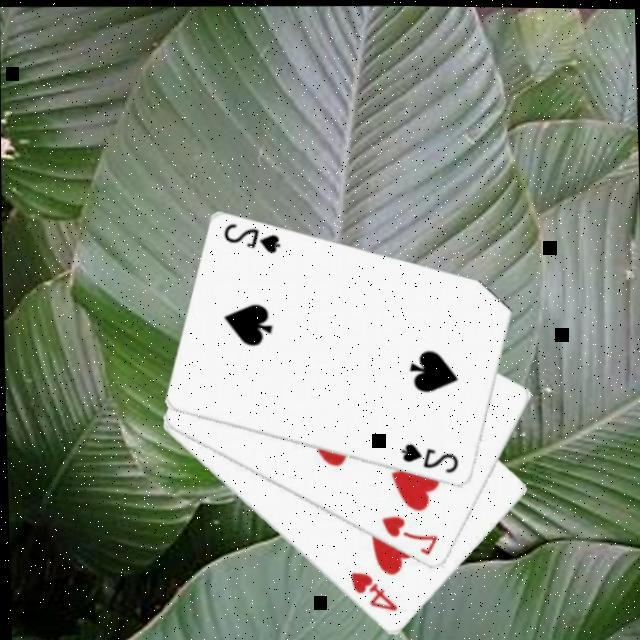2S: (398, 436, 462, 474), (220, 217, 284, 254)
4H: (346, 565, 399, 613)
7H: (377, 508, 441, 556)
